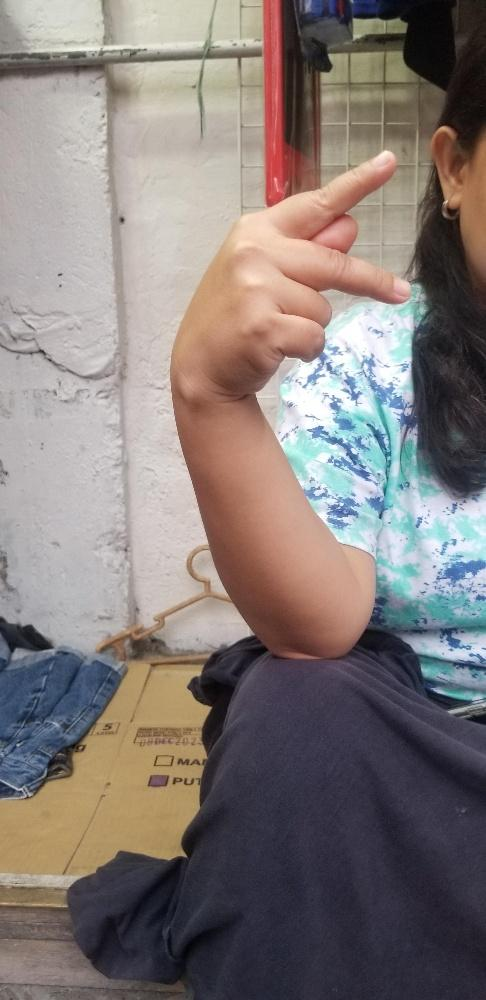k: (167, 146, 414, 404)
